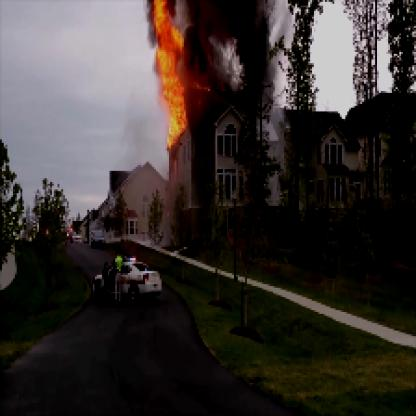Fire: (145, 2, 204, 145)
Smoke: (184, 2, 275, 115)
